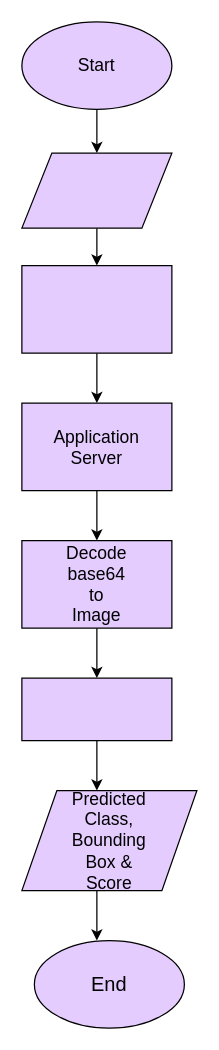
The diagram is 219 pixels wide and 1050 high, and some of its shapes have lost their labels. Here are the shapes that lost their labels. From the top down, the centre of each, then its label:
At point (96, 190): "Image".
At point (96, 308): "Encode Image to base64".
At point (96, 709): "Model".
